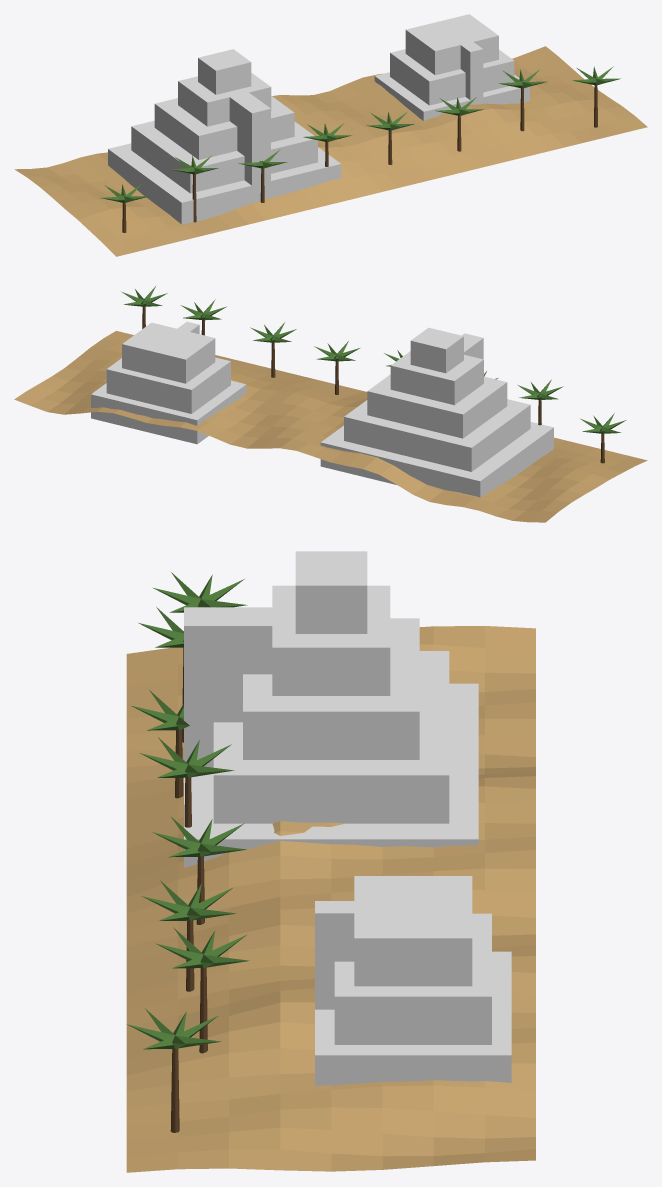
The model's file is mesopotamia_bg_far.fbx.
3 renders of one model, top to bottom at view 1: azimuth 30°, elevation 25°; view 2: azimuth 150°, elevation 25°; view 3: azimuth 270°, elevation 25°, orthographic. The views are drawn at different scales.
Parts seen in each view (by area): view 1: mesopotamia_bg_far; view 2: mesopotamia_bg_far; view 3: mesopotamia_bg_far.
Part boxes in pixels (x1=…): mesopotamia_bg_far: x1=14, y1=14, x2=647, y2=256; mesopotamia_bg_far: x1=14, y1=286, x2=647, y2=522; mesopotamia_bg_far: x1=126, y1=551, x2=535, y2=1172.
Size of the model in its own units: 60 by 13 by 20.04.
